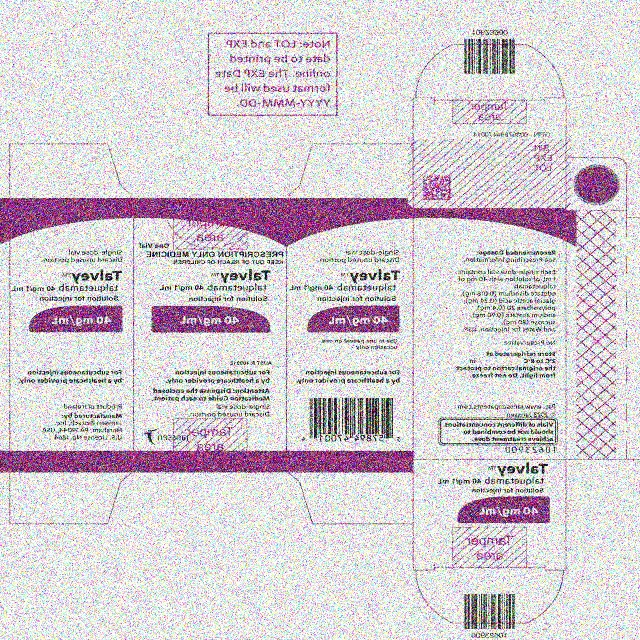Artwork: (0, 0, 640, 640)
Back_Panel: (412, 209, 566, 459)
Bottom_Part: (413, 97, 567, 210)
Extra_Areas: (565, 157, 629, 462), (286, 142, 414, 208), (8, 142, 133, 208), (414, 571, 565, 625), (288, 460, 413, 525), (416, 44, 566, 98), (8, 462, 133, 526), (132, 460, 287, 473), (133, 198, 286, 207)
Front_Panel: (134, 209, 287, 459)
Side_Panel: (287, 208, 413, 460), (10, 209, 134, 462)
Top_Panel: (413, 459, 566, 571)
